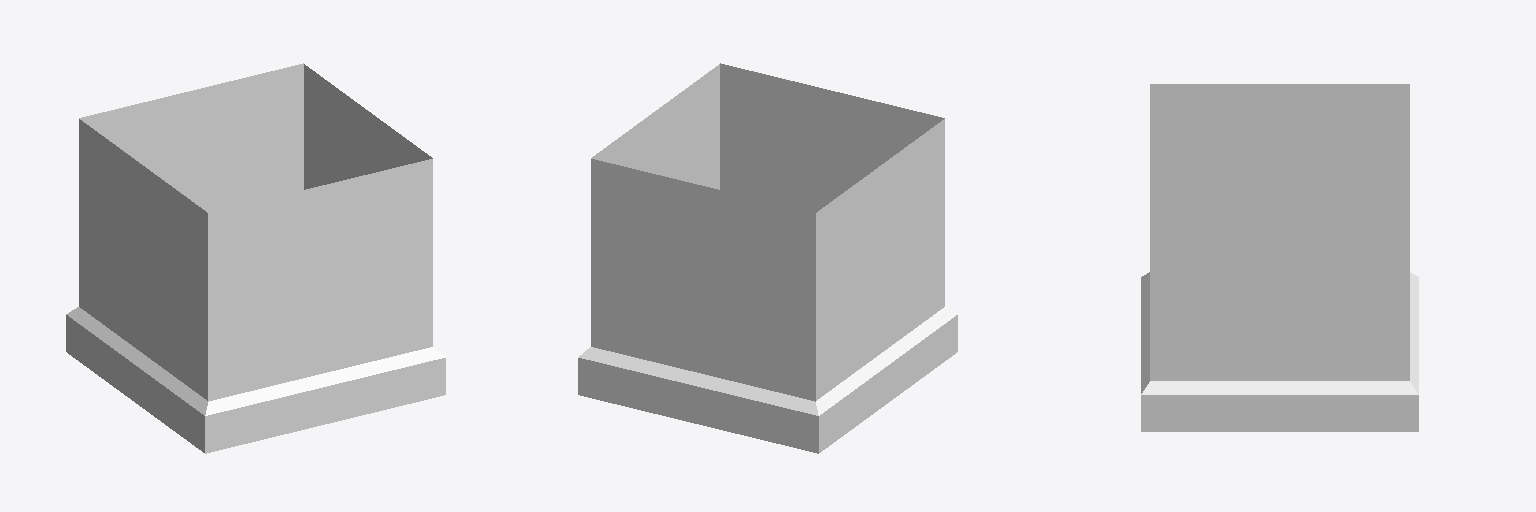
Rendered from Building_Bot.obj.
The picture shows the model from 3 angles: view 1: azimuth 30°, elevation 25°; view 2: azimuth 150°, elevation 25°; view 3: azimuth 270°, elevation 25°; orthographic projection.
Parts seen in each view (by area): view 1: Building_Solo; view 2: Building_Solo; view 3: Building_Solo.
Part boxes in pixels (x1,y1,x2,y2): Building_Solo: (66, 63, 445, 453); Building_Solo: (578, 63, 957, 453); Building_Solo: (1141, 84, 1418, 431).
Bounding box in the file's own units: 1.07 × 1 × 1.07.